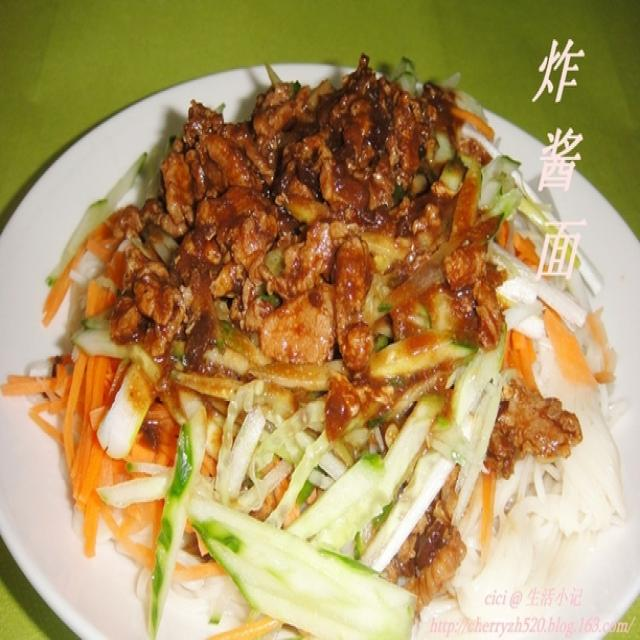面条主食: (38, 42, 621, 623)
